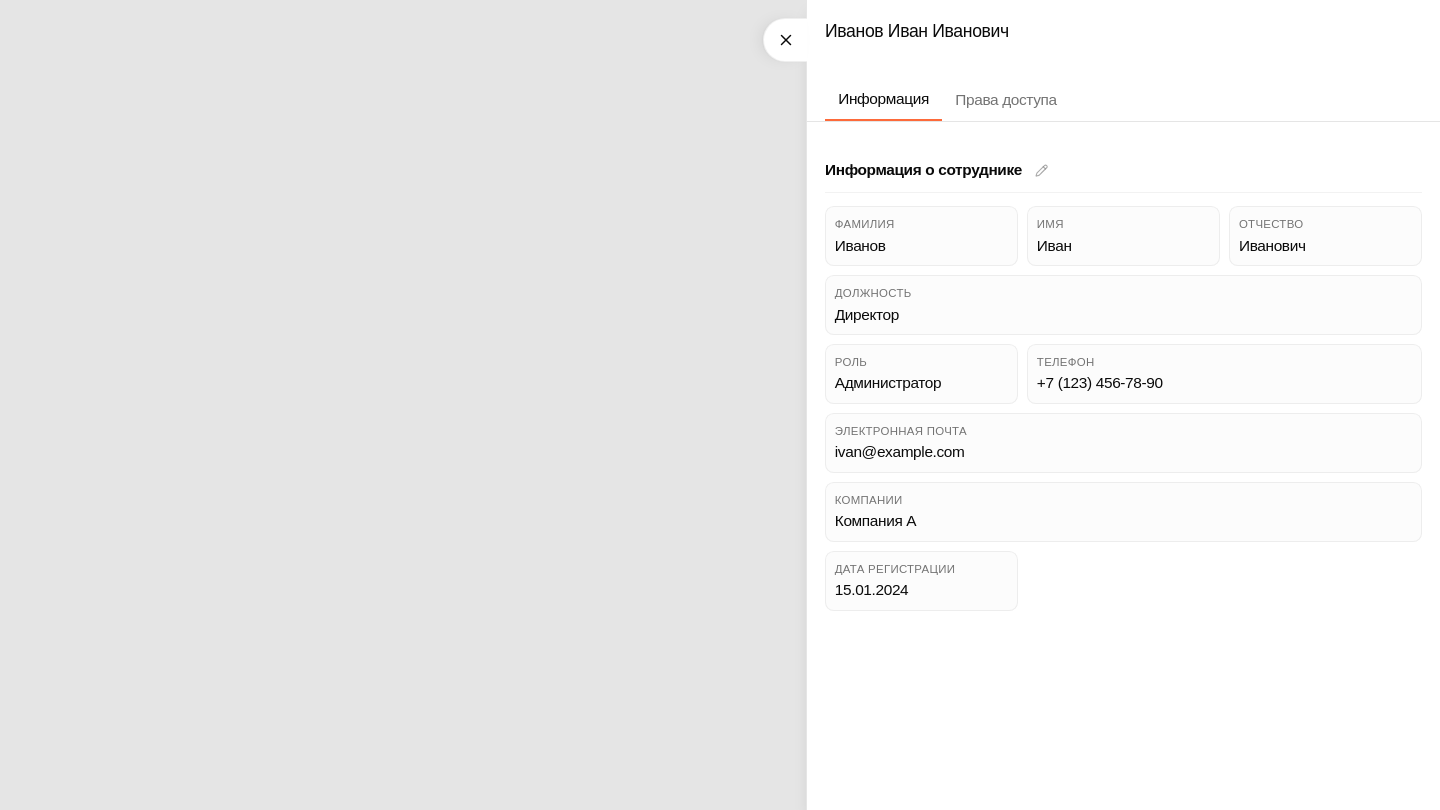
Test case: EmployeeDetailDrawer — Права доступа tab › renders permission matrix on Права доступа tab
What coordinates should you click on to do the following:
click the tab with test id "employee-tab-permissions"
I would click on:
 (1006, 100)
Its box is [942,79,1070,121].
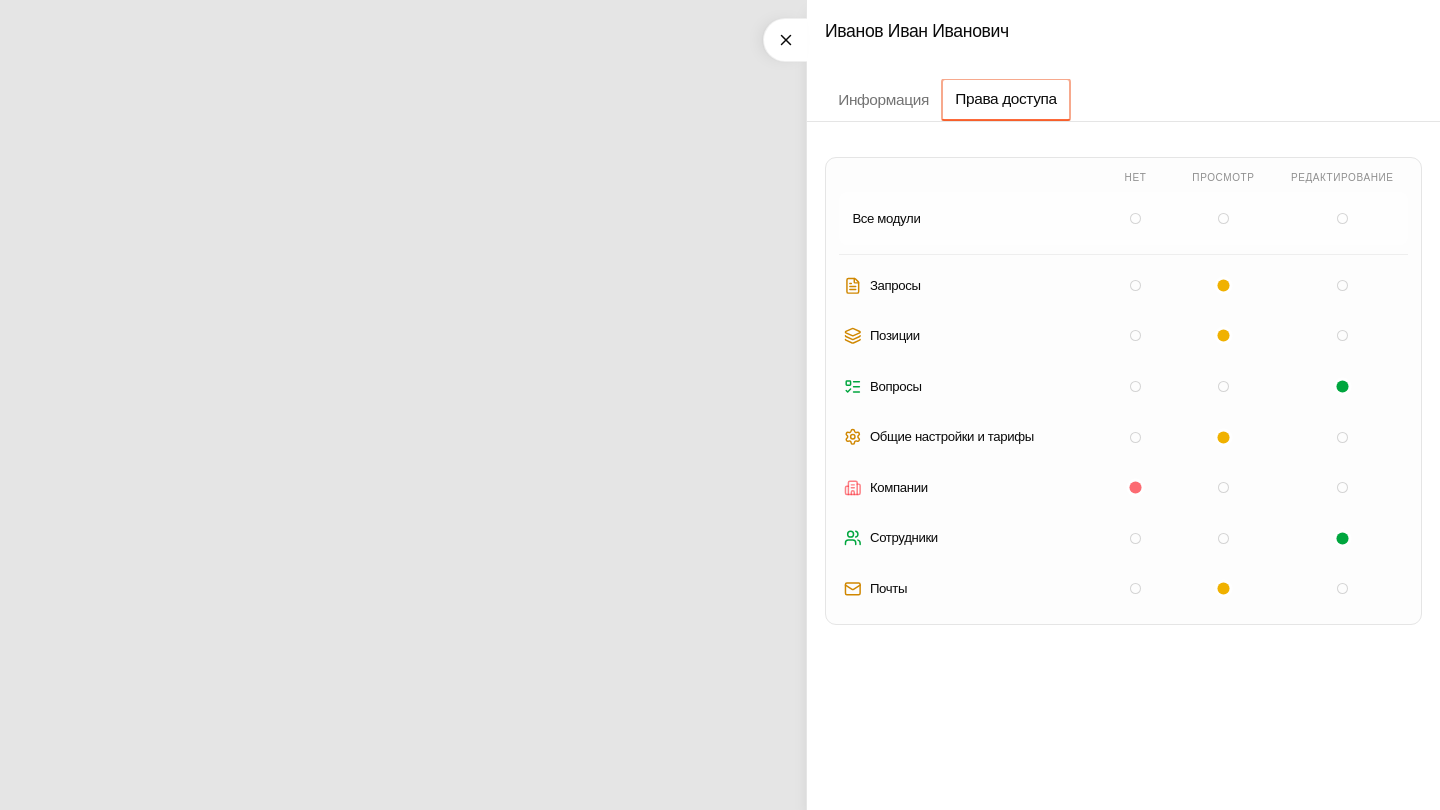
Now the element with test id "permissions-matrix" is shown, box [825,157,1422,625]
Now the element with test id "perm-row-procurementInquiries" is shown, box [839,263,1408,307]
Now the element with test id "perm-row-positions" is shown, box [839,314,1408,358]
